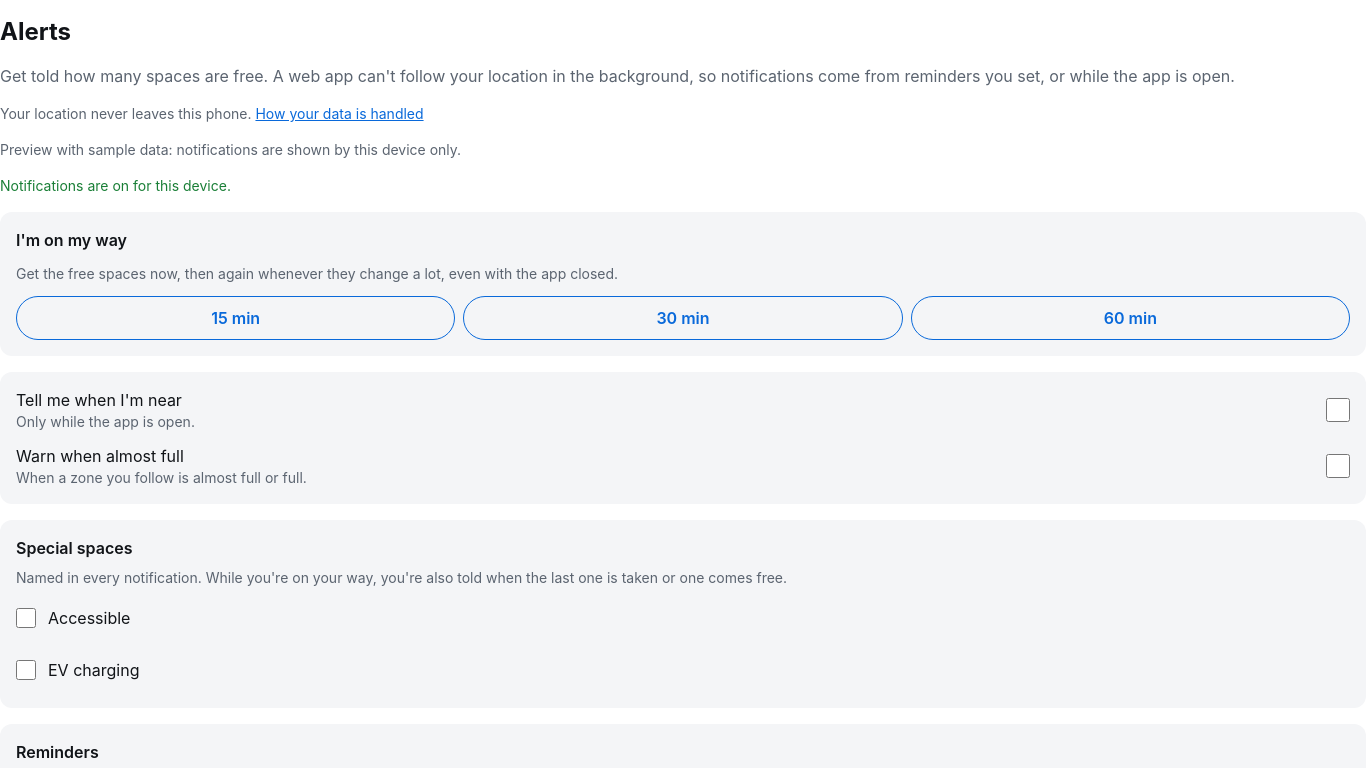
Test: NotificationsScreen › when subscribed › saves a burst of changes with one PATCH 500 ms after the last
This screenshot has width=1366, height=768.
What coordinates should you click on to do the following:
click the switch labelled "Warn when almost full"
I would click on:
 (1338, 466)
Its box is left=1326, top=454, right=1350, bottom=478.
Wait 400 ms
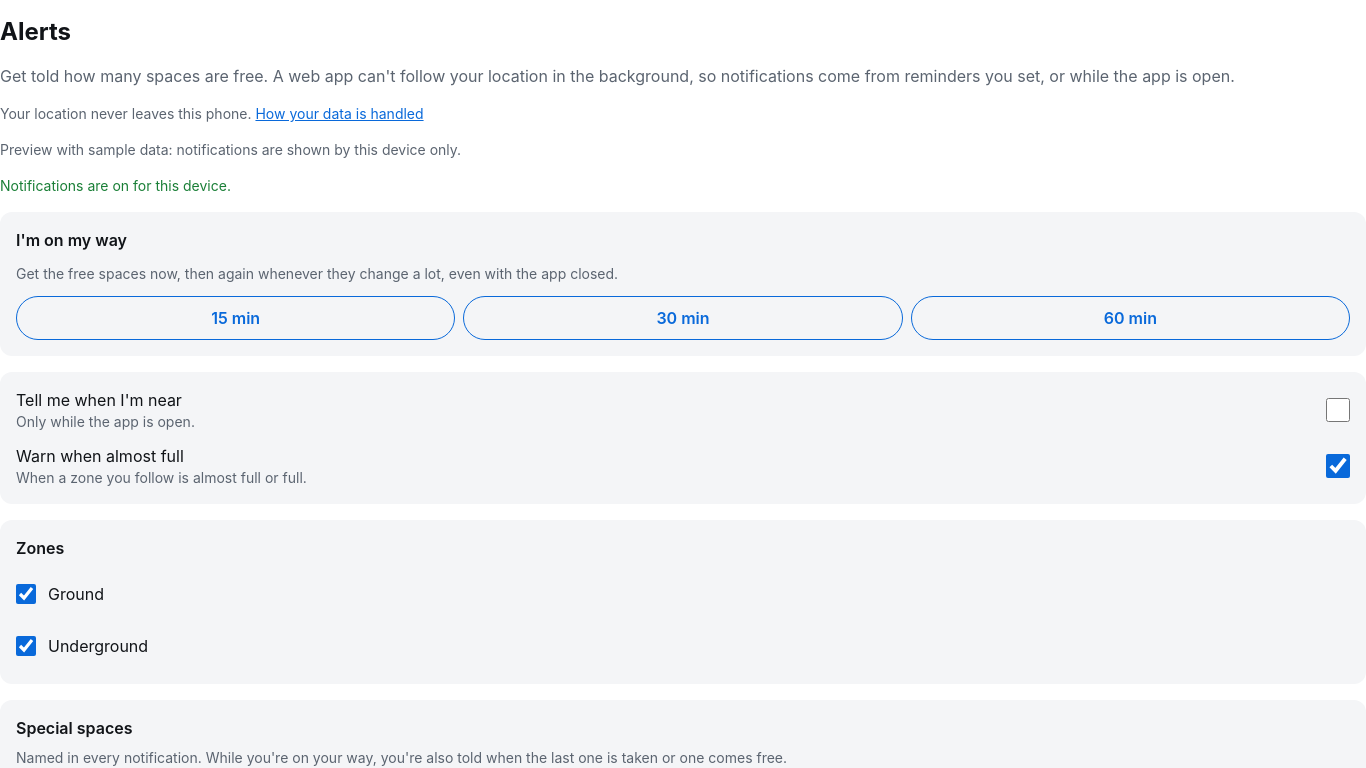
Note: 'near' asks for the location first, so its change lands a microtask later
What coordinates should you click on to do the following:
click the switch labelled "Tell me when I'm near Only while the app is open."
I would click on:
 (1338, 410)
Its box is left=1326, top=398, right=1350, bottom=422.
Wait 500 ms
(page scrolled)
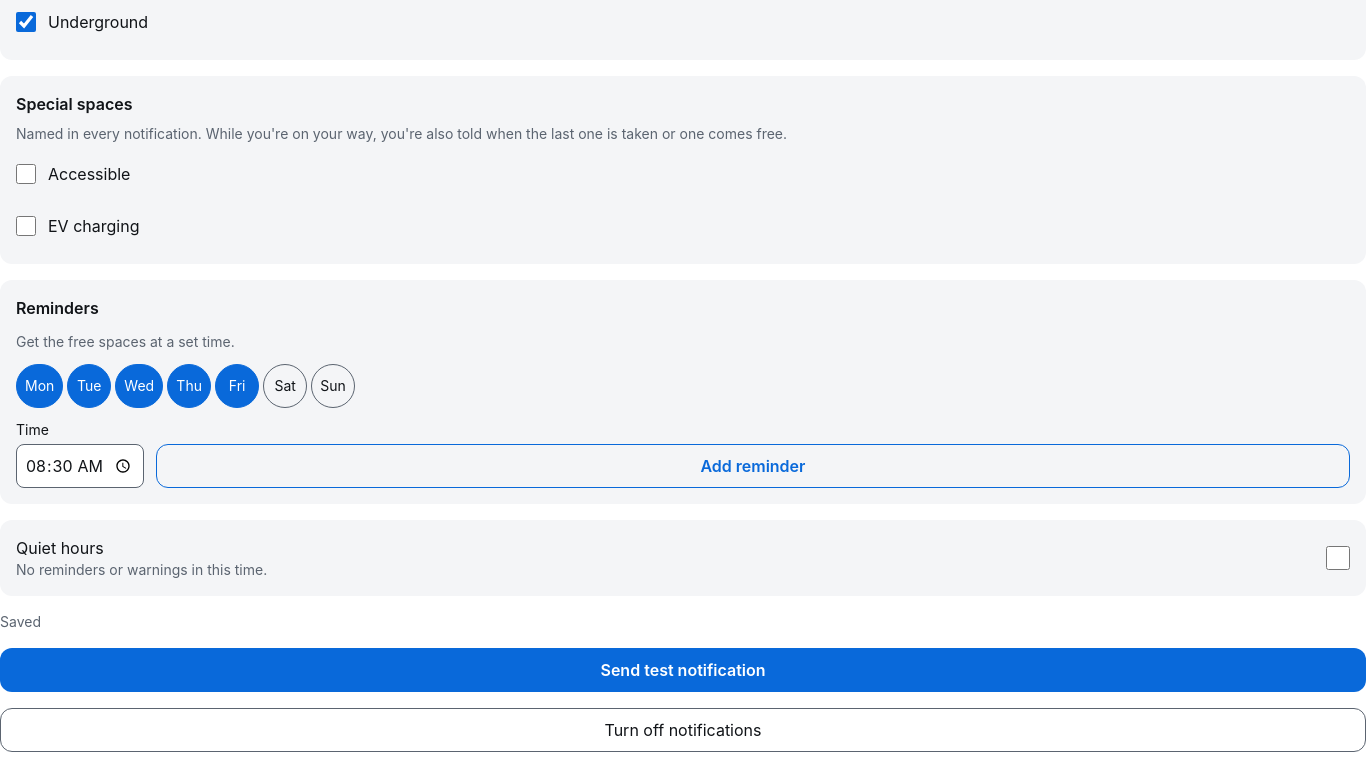
Expected: the text "Saved" is shown, left=0, top=613, right=41, bottom=630
